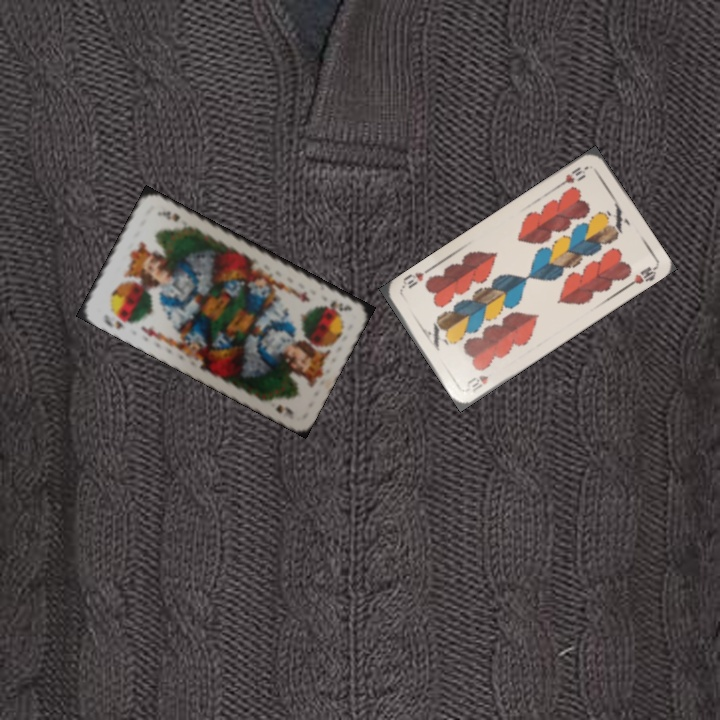H10: (554, 162, 591, 189), (463, 371, 491, 395)
SK: (100, 310, 126, 332), (326, 297, 354, 314)
